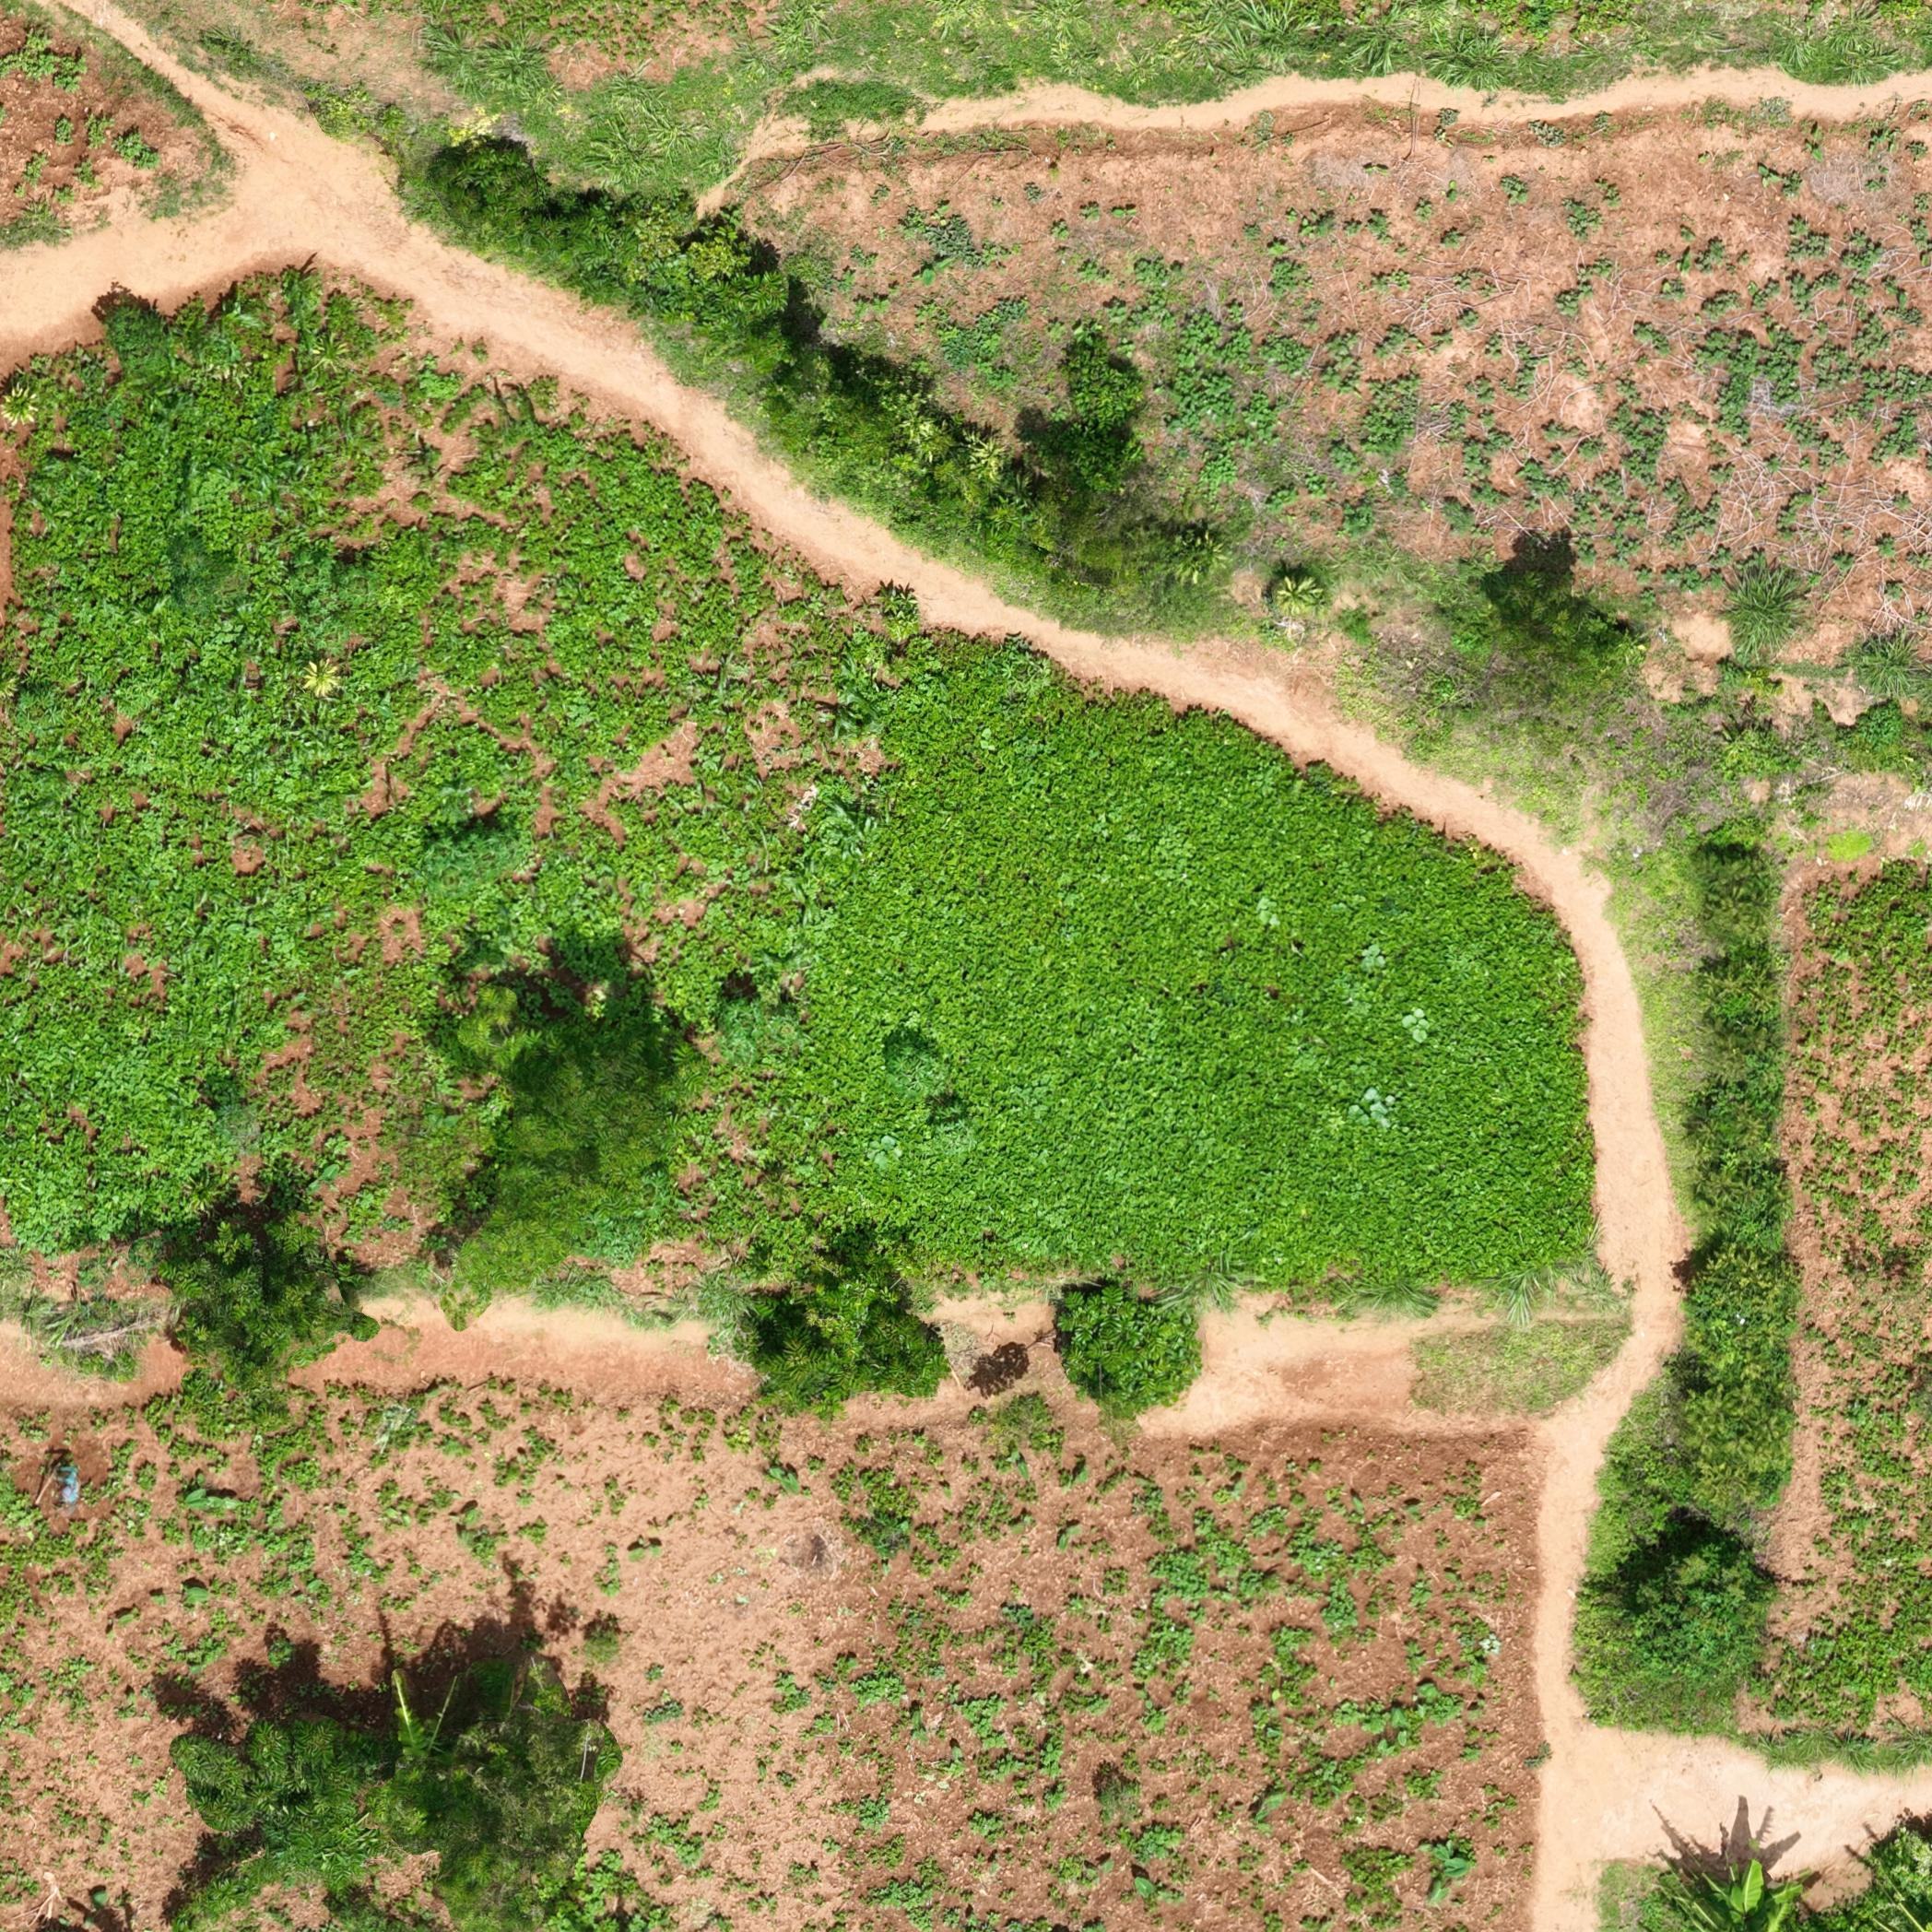Banana: (372, 1651, 478, 1815), (1675, 1840, 1821, 1927)
